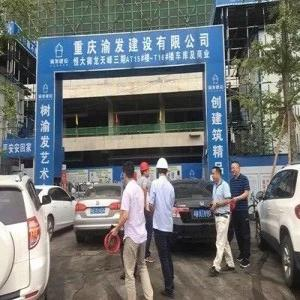none: (122, 161, 136, 184), (211, 166, 224, 184), (231, 161, 242, 178)
red: (141, 162, 151, 179)
white: (156, 158, 170, 178)
